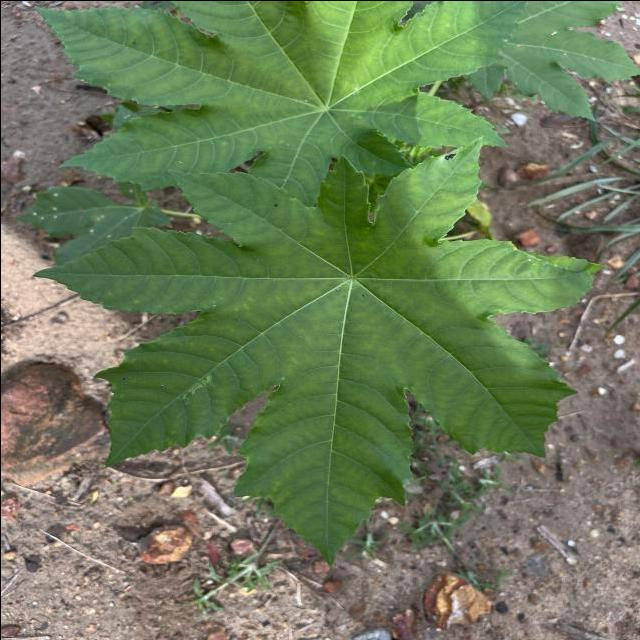Ricinus communis linn: (25, 125, 612, 570)
